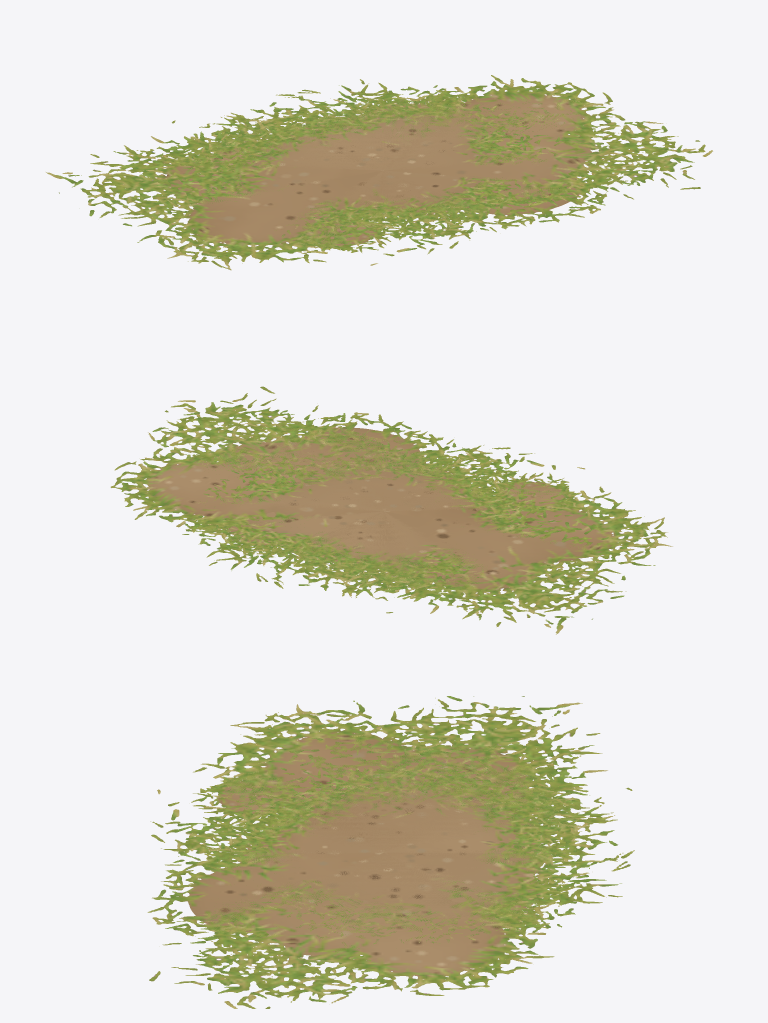
The model's file is lawn-kit.glb.
The picture shows the model from 3 angles, top to bottom: view 1: azimuth 30°, elevation 25°; view 2: azimuth 150°, elevation 25°; view 3: azimuth 270°, elevation 25°; orthographic projection. The views are drawn at different scales.
Visible parts, largest first — view 1: DirtPatch_B_LOD0, DirtPatch_A_LOD0, DirtPatch_D_LOD0, DirtPatch_C_LOD0; view 2: DirtPatch_B_LOD0, DirtPatch_A_LOD0, DirtPatch_D_LOD0, DirtPatch_C_LOD0; view 3: DirtPatch_B_LOD0, DirtPatch_D_LOD0, DirtPatch_A_LOD0, DirtPatch_C_LOD0.
Boxes of the visible parts, bbox=[...] form: DirtPatch_B_LOD0: bbox=[46, 75, 712, 270]; DirtPatch_A_LOD0: bbox=[198, 96, 577, 244]; DirtPatch_D_LOD0: bbox=[141, 79, 640, 265]; DirtPatch_C_LOD0: bbox=[180, 94, 588, 252]; DirtPatch_B_LOD0: bbox=[110, 386, 672, 634]; DirtPatch_A_LOD0: bbox=[195, 443, 572, 592]; DirtPatch_D_LOD0: bbox=[133, 412, 608, 613]; DirtPatch_C_LOD0: bbox=[204, 428, 583, 591]; DirtPatch_B_LOD0: bbox=[149, 696, 607, 1008]; DirtPatch_D_LOD0: bbox=[147, 725, 634, 981]; DirtPatch_A_LOD0: bbox=[185, 749, 617, 952]; DirtPatch_C_LOD0: bbox=[191, 758, 573, 944].
Size of what is drawn, in the model's own units: 1.67 by 0 by 1.67.
Materials: 4 (4 with a texture image).
